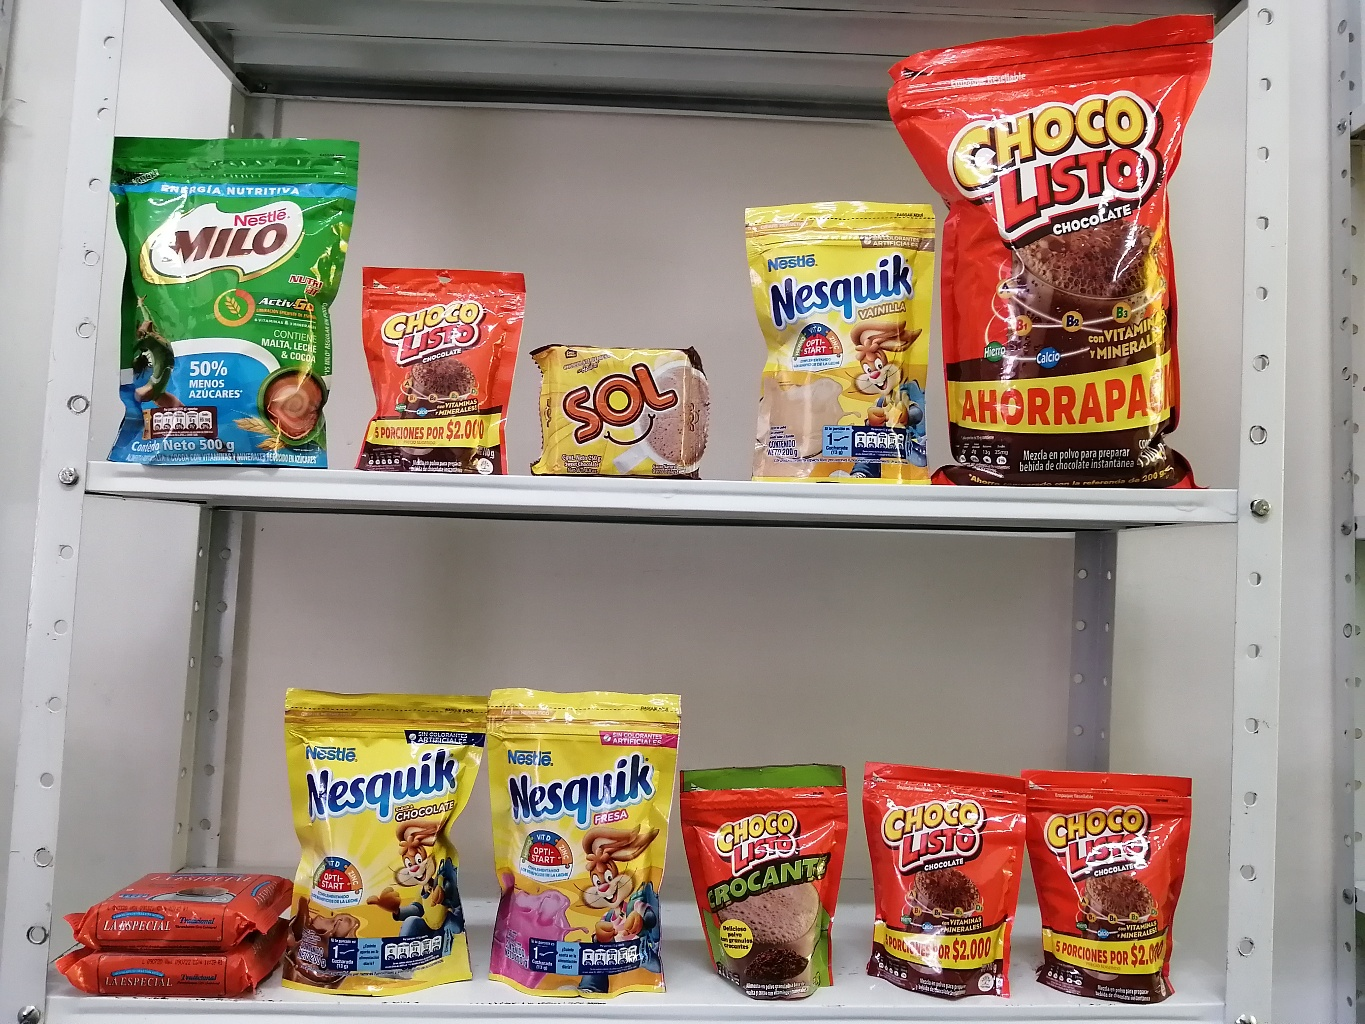COL0170102DYP10000: (677, 770, 850, 1002)
COL0170103DYP1,500: (878, 13, 1212, 490)
COL0170103DYP10000: (356, 261, 528, 475)
COL0170205DYP50000: (112, 136, 362, 468)
COL0170303DYP20000: (285, 689, 490, 996)
COL0170305DYP20000: (489, 688, 677, 996)
COL0170306DYP20000: (743, 203, 935, 483)
